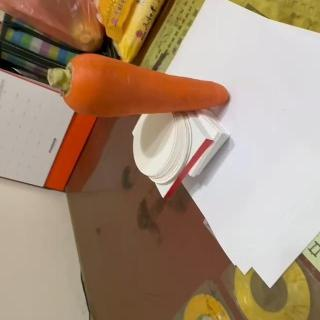carrot: (51, 51, 230, 117)
